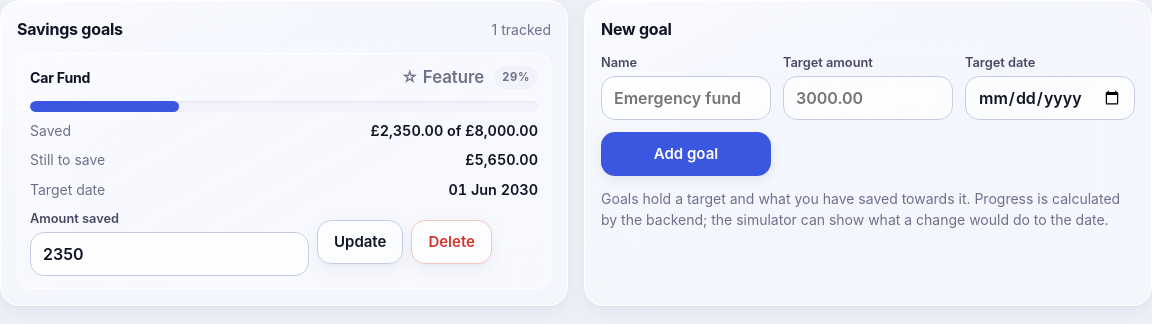
Test: goals panel star toggle › features a goal when the star is clicked
The image size is (1152, 324).
Click the button with aria-label "Feature Car Fund": (443, 77) [399, 67, 486, 88]
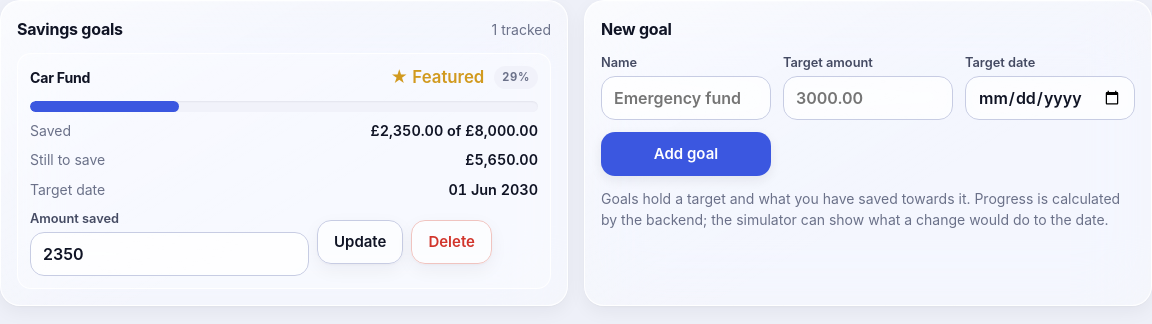
Now the button with aria-label "Unfeature Car Fund" is shown, box [389, 67, 486, 88]
